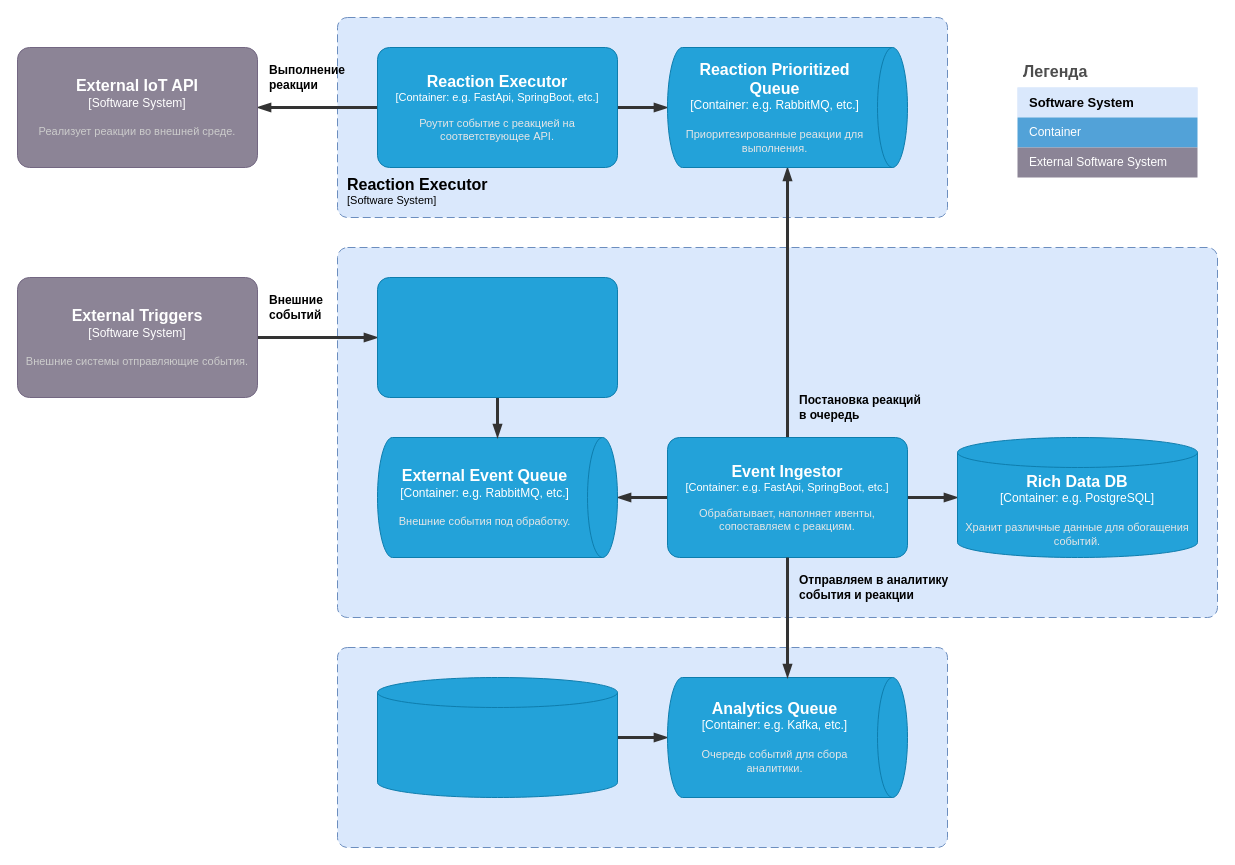
Image size: 1235x865. Some labels were removed from this diagram. Here are the shapes that lost their labels. From the top down, the box of each, then its label:
(376, 276, 618, 398): Public Api [Container: e.g. Nginx/FastApi, etc.] Роутинг внешних событий.
(336, 246, 1218, 618): Event Ingestor [Software System]
(376, 676, 618, 798): Analytics DB [Container: e.g. Click House] Хранит данные по событиям и реакциям.
(336, 646, 948, 848): Аналитика [Software System]
